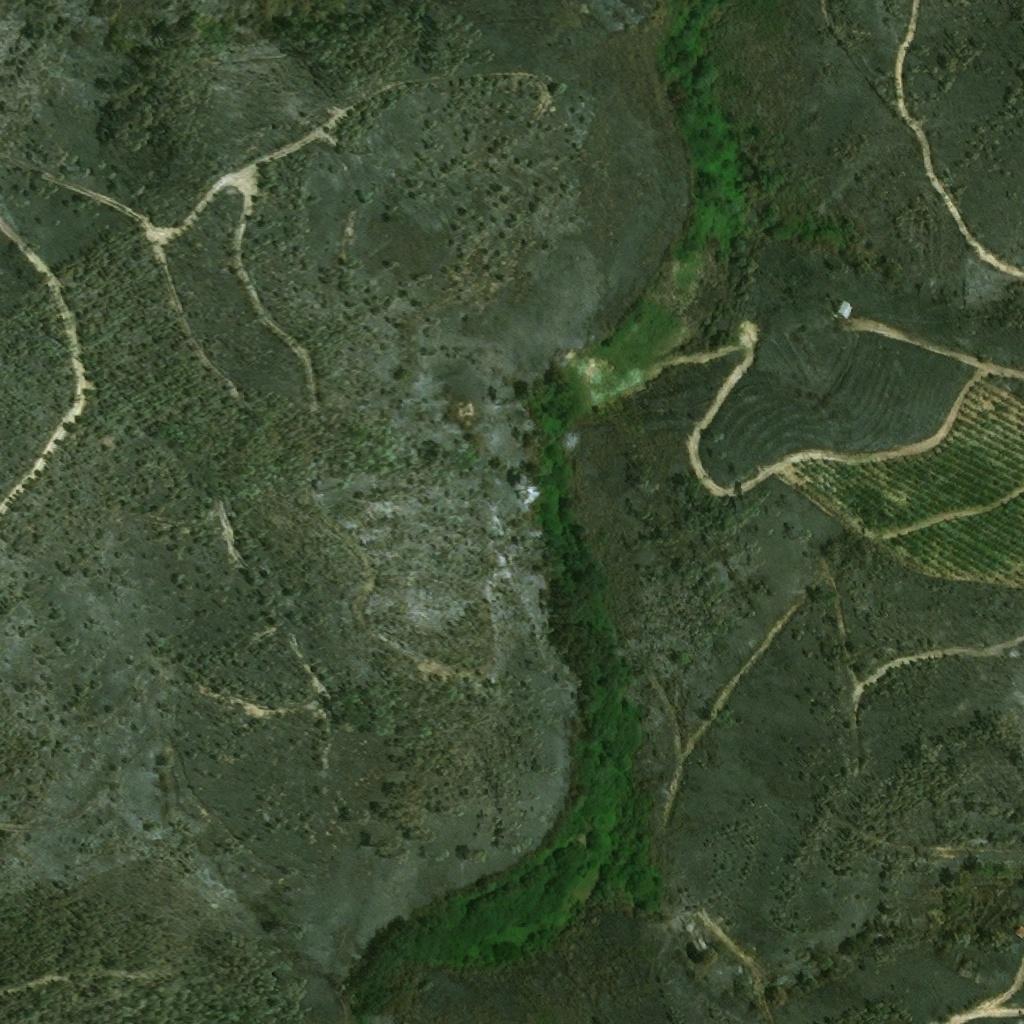1 minor-damage: (832, 299, 855, 320)
4 un-classified: (1012, 924, 1023, 938)
